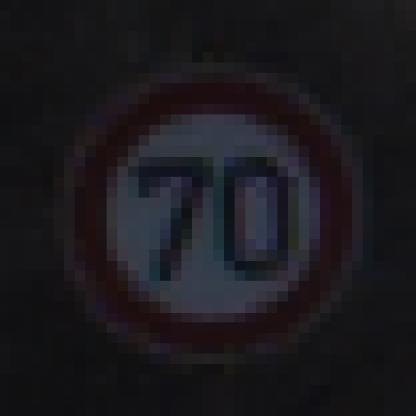Speed Limit 70: (70, 69, 350, 354)
